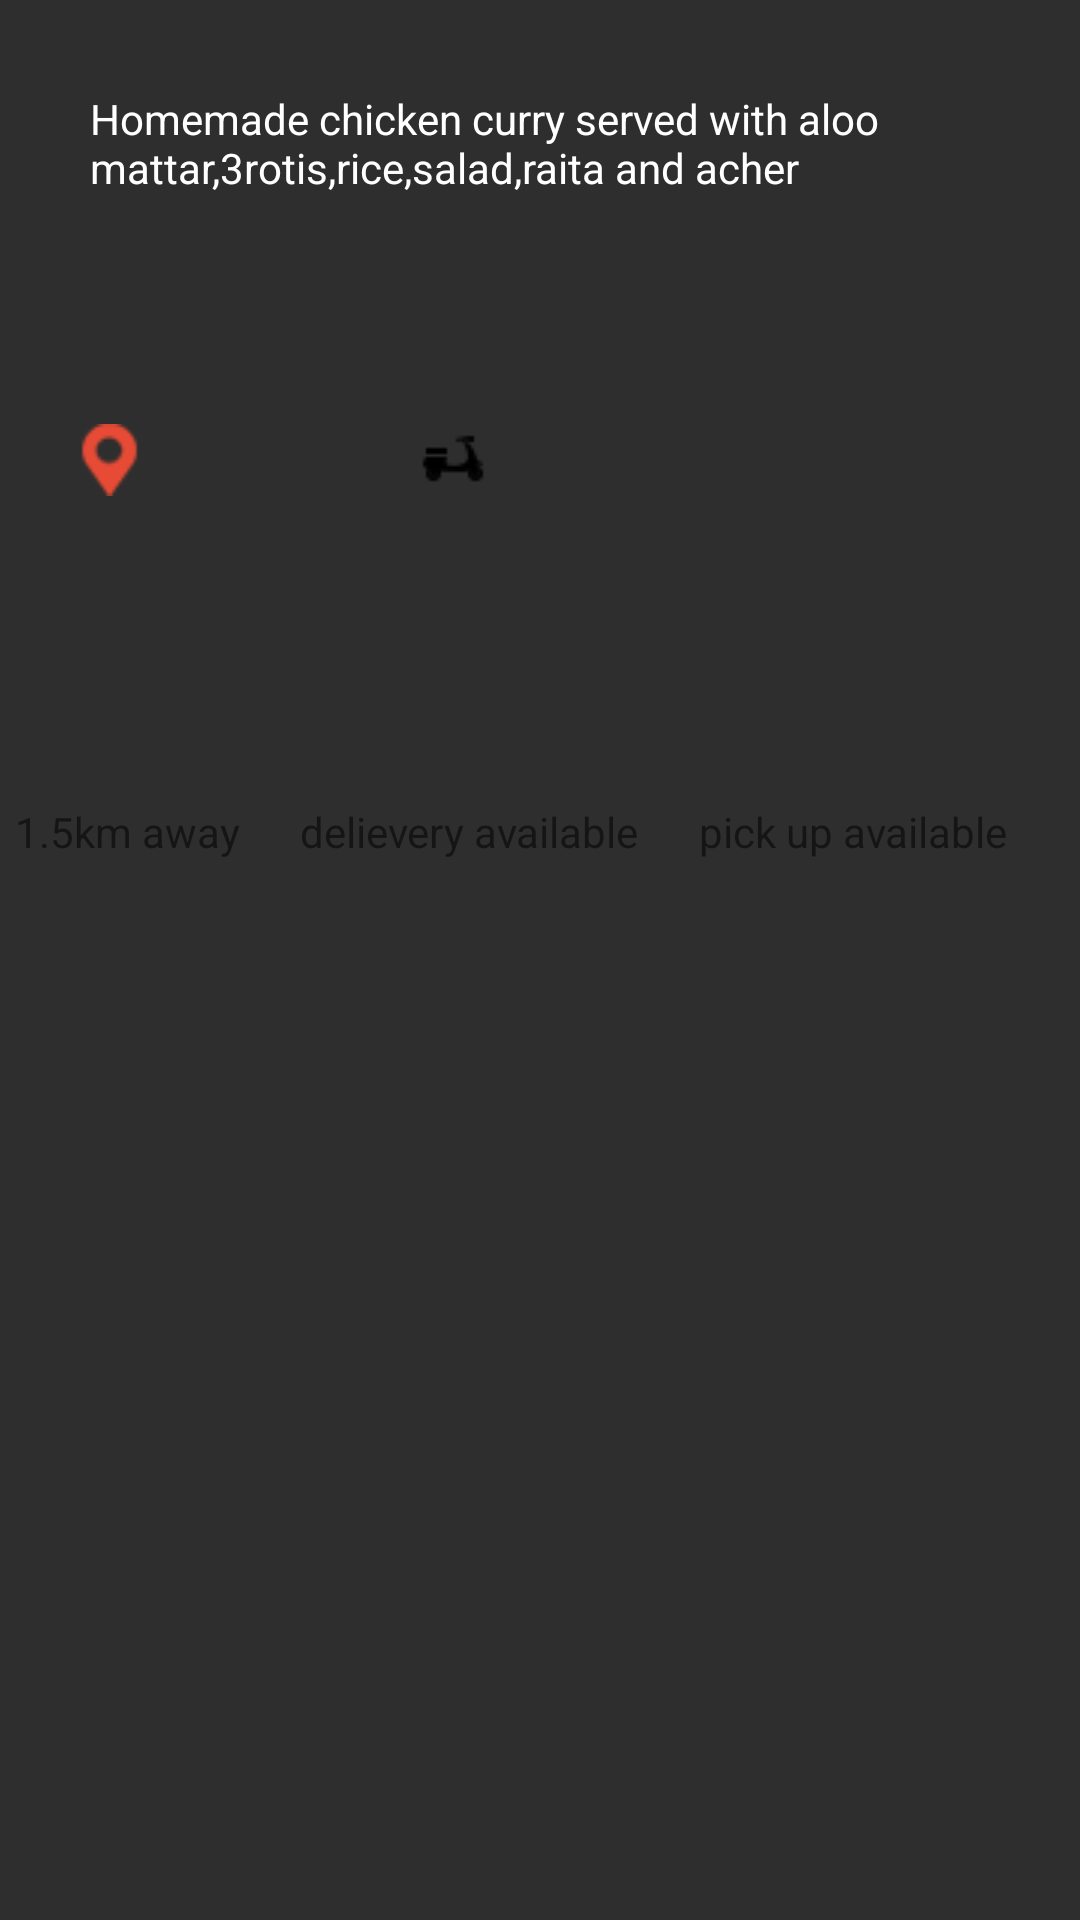

Icon click points for this 1080w x 1920h phone screenshot, format point (x, y):
orangeloc: point (109, 460)
scooter: point (453, 458)
